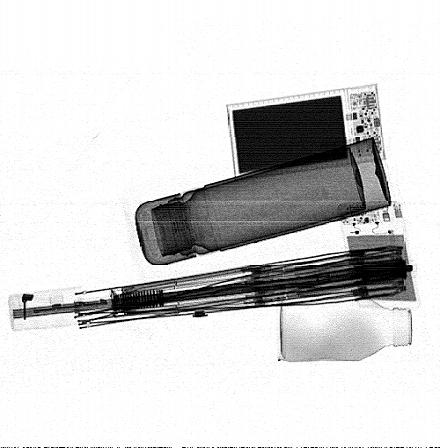Powerbank: (226, 83, 386, 178), (335, 201, 422, 311)
